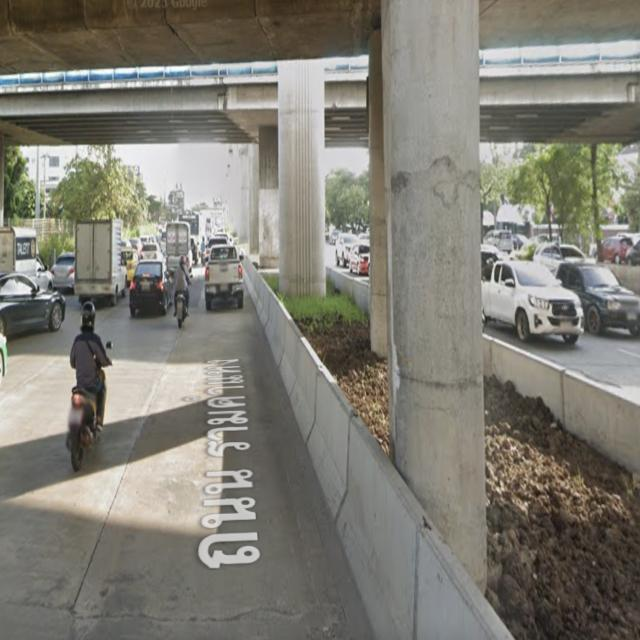fallen_object: (293, 329, 427, 636), (476, 315, 640, 489), (392, 497, 512, 640), (237, 252, 304, 421)
